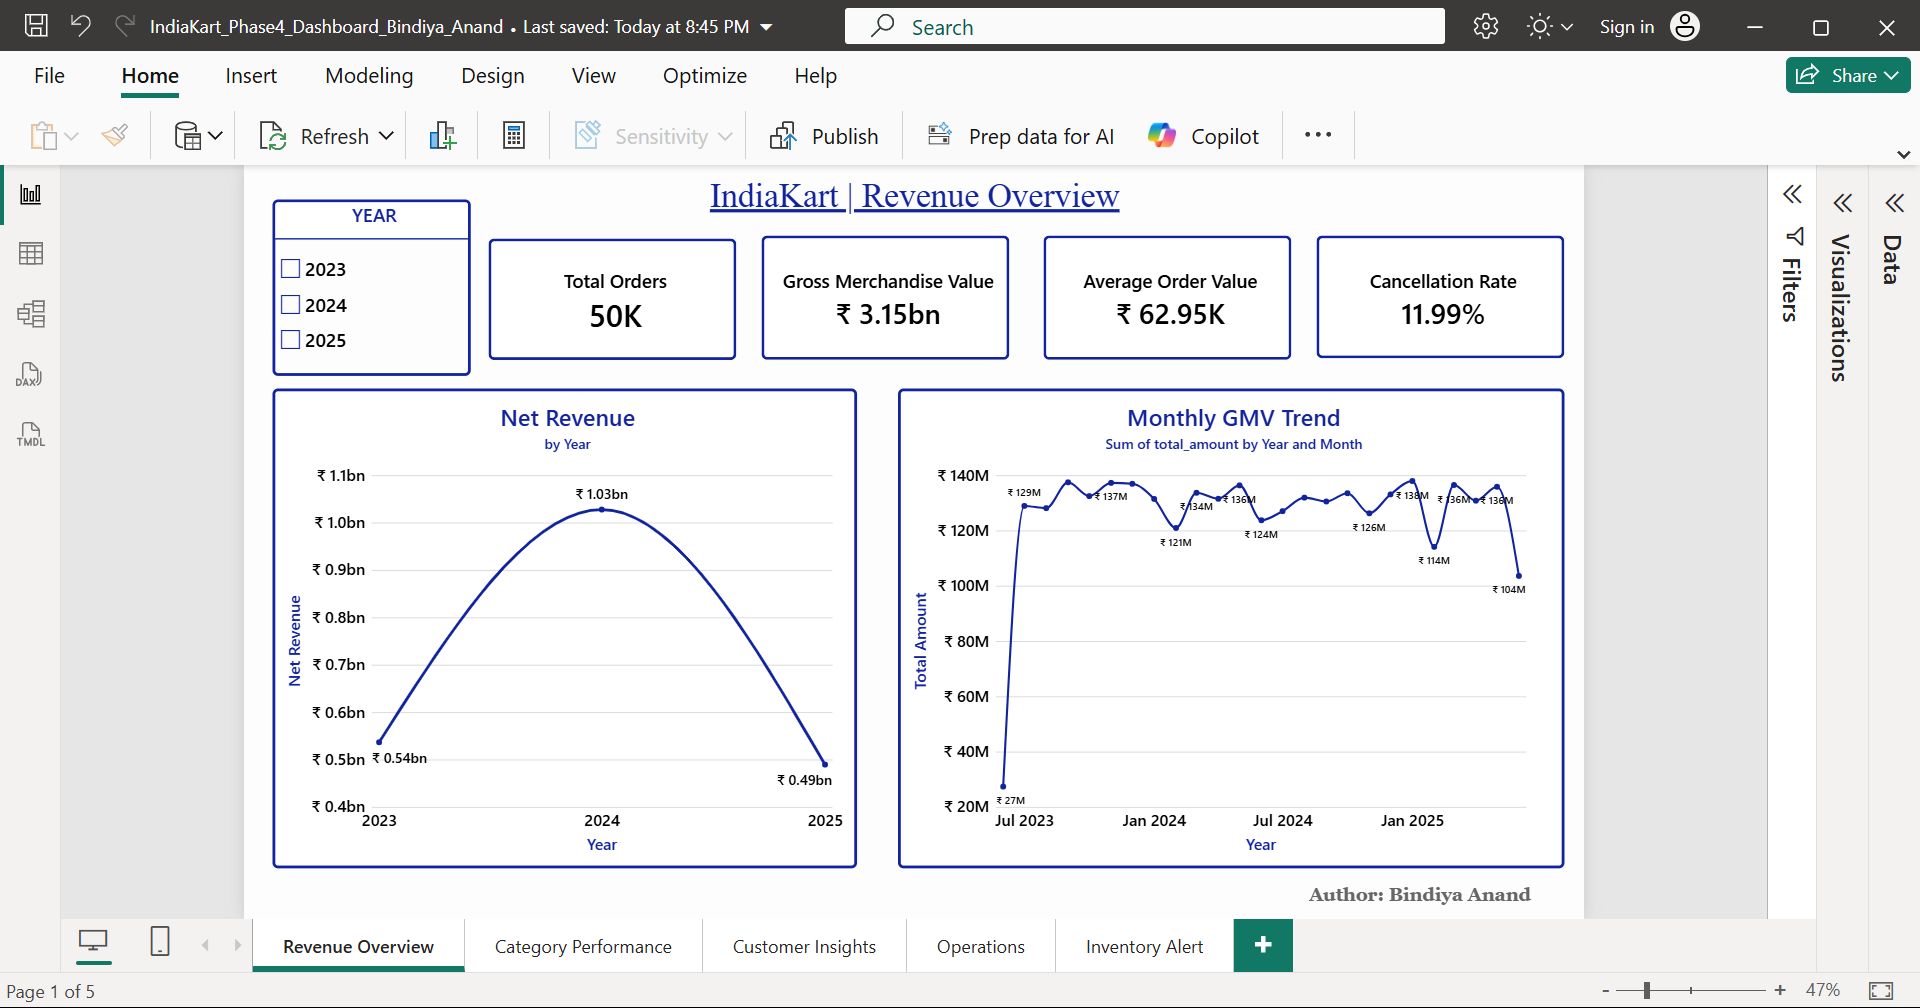

Layout of this report page (visuals, bound fields, positions):
{"tool":"powerbi","page":{"name":"Revenue Overview","canvas":[1920,1080],"ordinal":0},"visuals":[{"type":"textbox","box":[10,0,280,280],"z":0},{"type":"textbox","box":[646,18,628,62],"z":1000},{"type":"cardVisual","title":"Total GMV","fields":{"Data":["Sum(orders DA.total_amount)"]},"box":[742,100.2,355.5,178.9],"z":2000},{"type":"lineChart","title":"Monthly GMV Trend","fields":{"Category":["orders DA.order_date.Variation.Date Hierarchy.Year","orders DA.order_date.Variation.Date Hierarchy.Month"],"Y":["Sum(orders DA.total_amount)"]},"box":[937.7,319.7,954.4,687.1],"z":3000},{"type":"cardVisual","title":"AOV","fields":{"Data":["orders DA.AOV"]},"box":[1145.2,100.2,355.5,178.9],"z":4000},{"type":"cardVisual","fields":{"Data":["orders DA.Total Orders"]},"box":[350.7,105,355.5,174.2],"z":5000},{"type":"cardVisual","fields":{"Data":["orders DA.Cancellation Rate"]},"box":[1536.5,100.2,355.5,176.6],"z":6000},{"type":"lineChart","fields":{"Category":["orders DA.order_date.Variation.Date Hierarchy.Year","orders DA.order_date.Variation.Date Hierarchy.Month"],"Y":["orders DA.Net Revenue"]},"box":[40.6,319.7,837.5,687.1],"z":7000},{"type":"slicer","title":"YEAR","fields":{"Values":["orders DA.order_date.Variation.Date Hierarchy.Year"]},"box":[40.6,50.1,283.9,252.9],"z":8000}]}

Visuals, with their boxes on the page's 1920x1080 design canvas (x1, y1, x2, y2). These are canvas units, not pixel positions in the 1920x1008 screenshot, which may show the page scaled, cropped or inside an application window:
textbox: (x1=10, y1=0, x2=290, y2=280)
textbox: (x1=646, y1=18, x2=1274, y2=80)
"Total GMV" cardVisual: (x1=742, y1=100, x2=1098, y2=279)
"Monthly GMV Trend" lineChart: (x1=938, y1=320, x2=1892, y2=1007)
"AOV" cardVisual: (x1=1145, y1=100, x2=1501, y2=279)
cardVisual - orders DA.Total Orders: (x1=351, y1=105, x2=706, y2=279)
cardVisual - orders DA.Cancellation Rate: (x1=1536, y1=100, x2=1892, y2=277)
lineChart - orders DA.order_date.Variation.Date Hierarchy.Year x orders DA.order_date.Variation.Date Hierarchy.Month: (x1=41, y1=320, x2=878, y2=1007)
"YEAR" slicer: (x1=41, y1=50, x2=324, y2=303)
